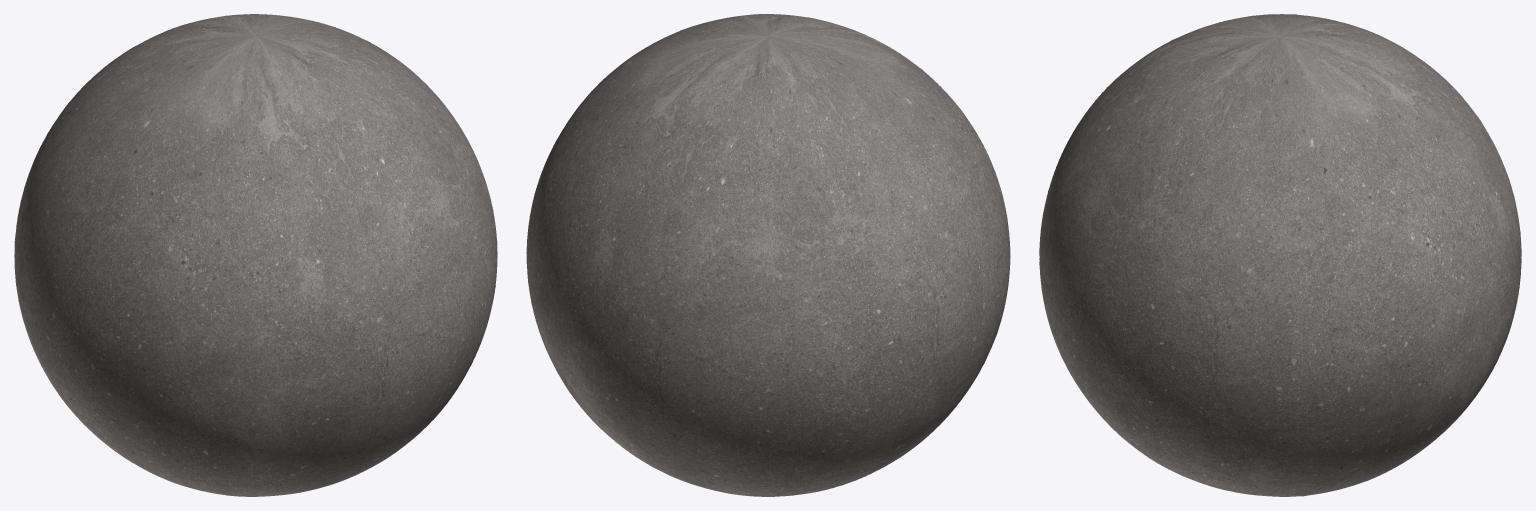
The model's file is asphalt_04_4k.gltf.
3 renders of one model, left to right at view 1: azimuth 30°, elevation 25°; view 2: azimuth 150°, elevation 25°; view 3: azimuth 270°, elevation 25°, orthographic.
Parts seen in each view (by area): view 1: sphere_gltf; view 2: sphere_gltf; view 3: sphere_gltf.
Part boxes in pixels (x1,y1,x2,y2): sphere_gltf: (14,14,497,496); sphere_gltf: (526,14,1010,496); sphere_gltf: (1039,14,1521,496).
Size of the model in its own units: 4.04 by 4.04 by 4.03.
1 material, 1 textured.
